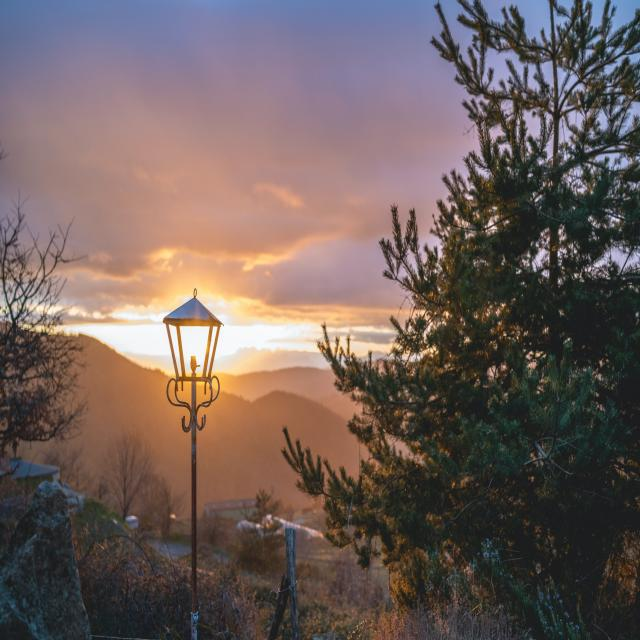Street Light: (163, 289, 224, 640)
